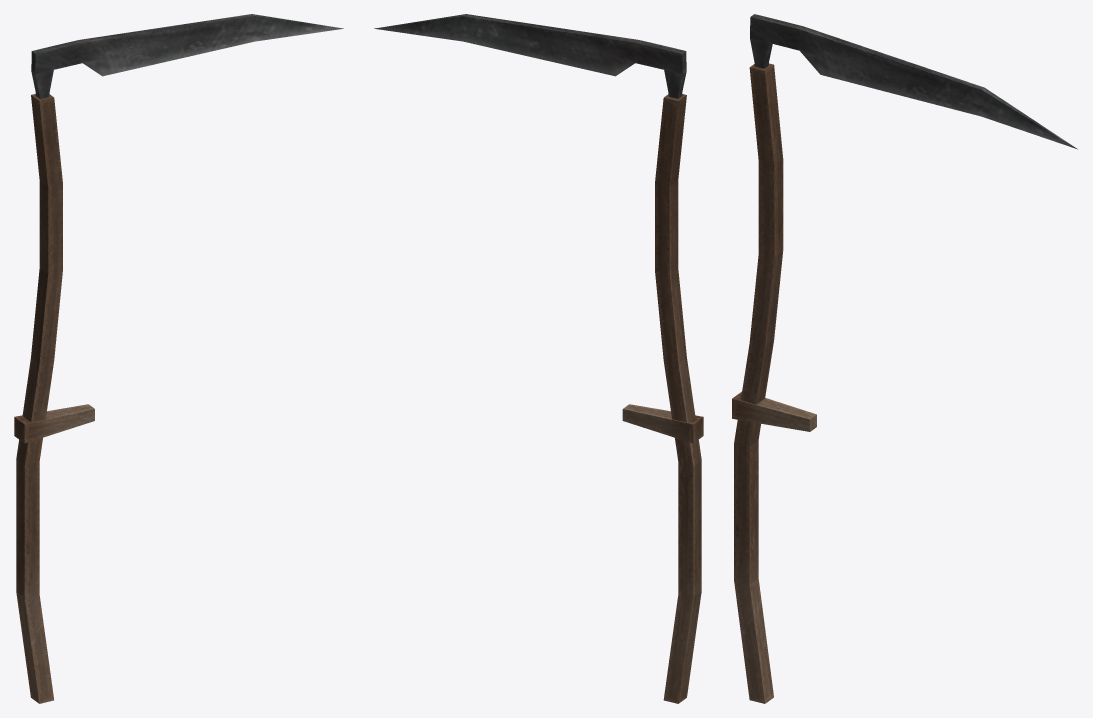
The model's file is Scyth.fbx.
The picture shows the model from 3 angles, left to right: view 1: azimuth 30°, elevation 25°; view 2: azimuth 150°, elevation 25°; view 3: azimuth 330°, elevation 25°; orthographic projection. The views are drawn at different scales.
Visible parts, largest first — view 1: Scyth; view 2: Scyth; view 3: Scyth.
Part boxes in pixels (x1,y1,x2,y2): Scyth: [14, 14, 343, 703]; Scyth: [374, 14, 703, 703]; Scyth: [732, 14, 1077, 703].
Size of the model in its own units: 90.45 by 172 by 5.08.
